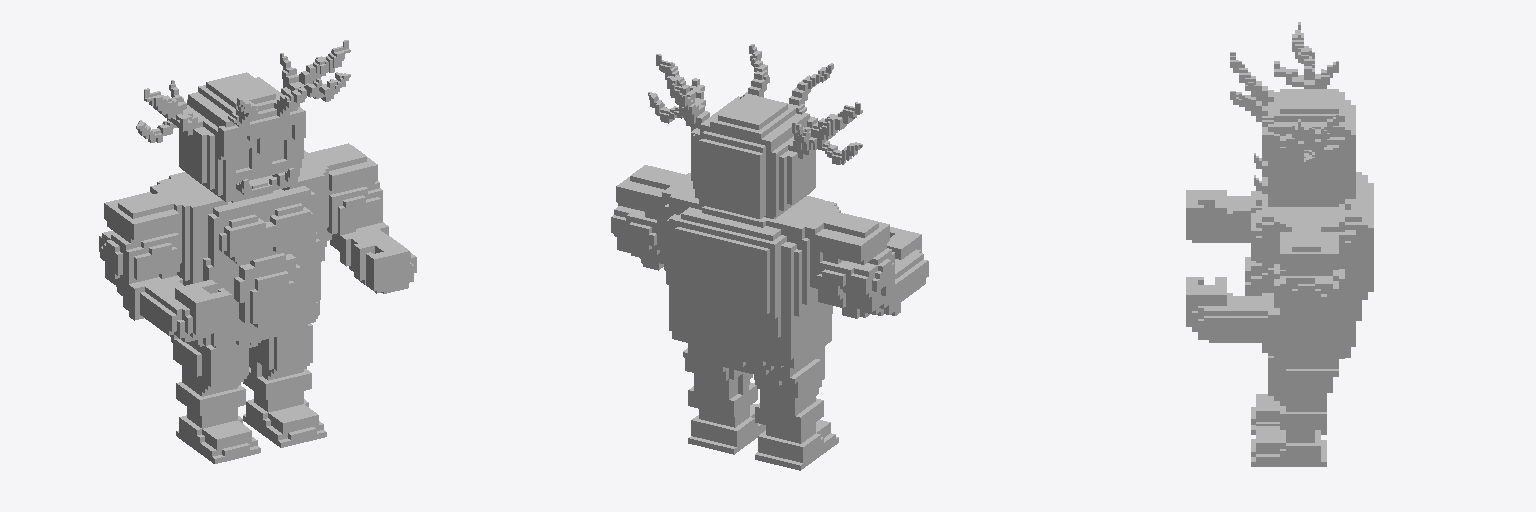
The model's file is Gaurdian 1.obj.
3 views of the same model, side by side, from view 1: azimuth 30°, elevation 25°; view 2: azimuth 150°, elevation 25°; view 3: azimuth 270°, elevation 25° (orthographic).
Visible parts, largest first — view 1: object 1; view 2: object 1; view 3: object 1.
Boxes of the visible parts, box(x1,y1,x2,y2) form: object 1: box(99, 40, 416, 463); object 1: box(611, 44, 928, 470); object 1: box(1186, 22, 1373, 466).
Size of the model in its own units: 10.4 by 13.8 by 6.4.